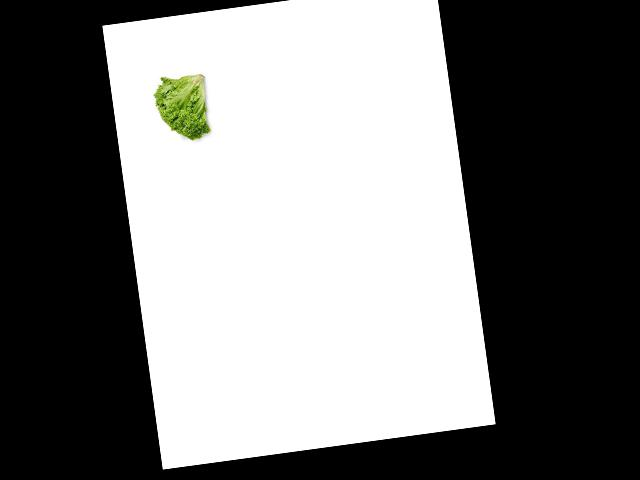lettuce: (147, 68, 218, 148)
